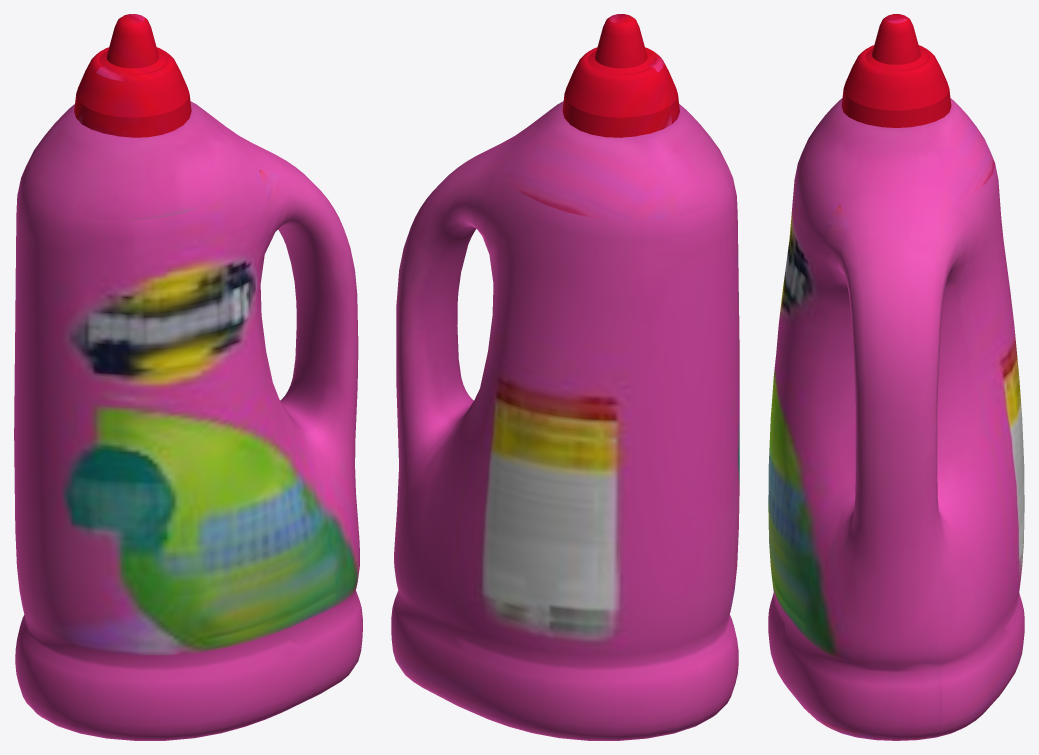
The model's file is cleaner.glb.
The picture shows the model from 3 angles, left to right: view 1: azimuth 30°, elevation 25°; view 2: azimuth 150°, elevation 25°; view 3: azimuth 270°, elevation 25°; orthographic projection. The views are drawn at different scales.
Parts seen in each view (by area): view 1: all_purpose_cleaner; view 2: all_purpose_cleaner; view 3: all_purpose_cleaner.
Part boxes in pixels (x1=…): all_purpose_cleaner: x1=14, y1=14, x2=362, y2=740; all_purpose_cleaner: x1=391, y1=14, x2=739, y2=740; all_purpose_cleaner: x1=768, y1=14, x2=1024, y2=740.
Bounding box in the file's own units: 0.1567 × 0.3197 × 0.1174.
1 material, 1 textured.
